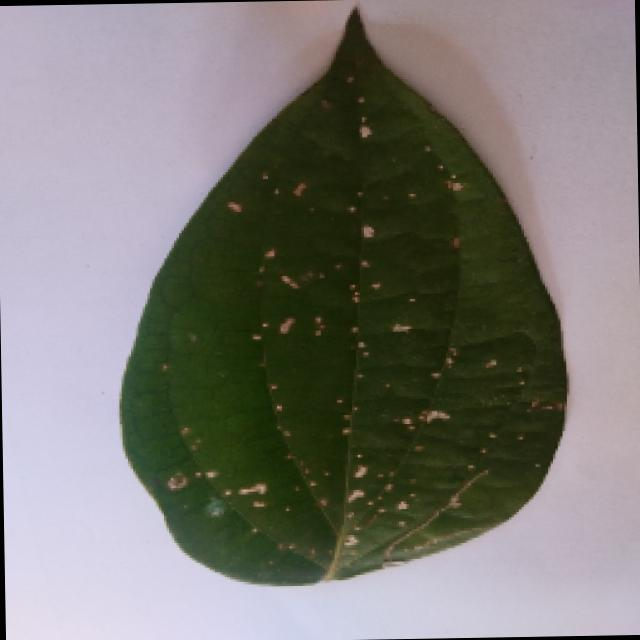pollu-disease: (82, 0, 597, 584)
